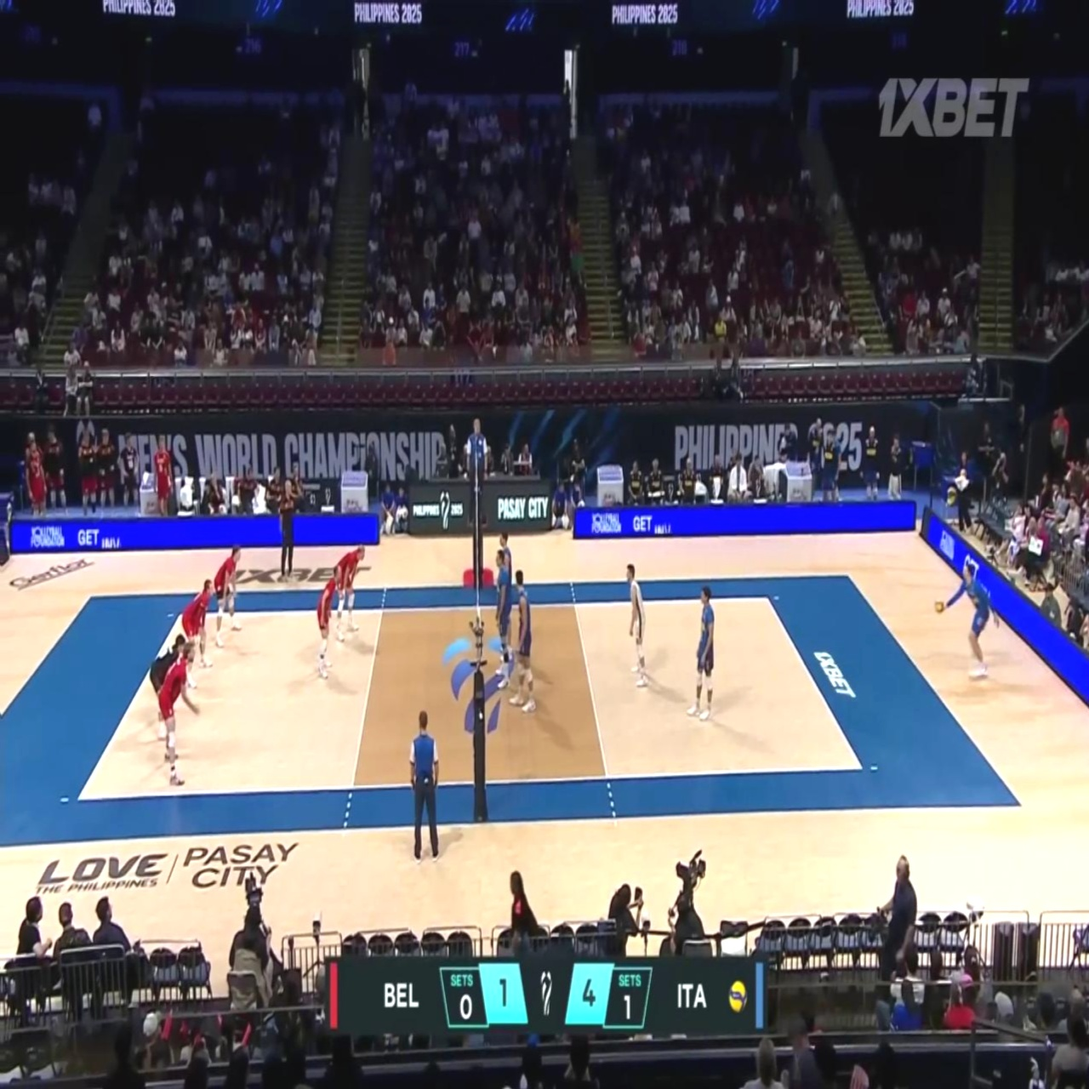ball: (934, 595, 944, 614)
